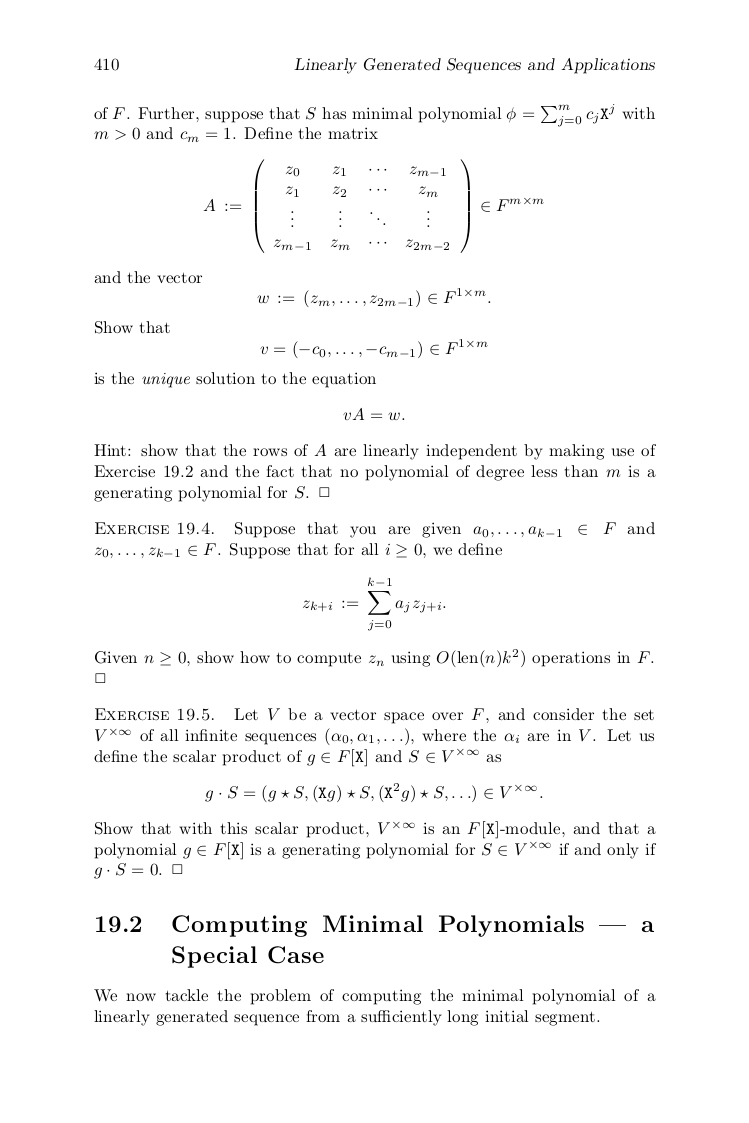formula: (203, 158, 543, 253), (302, 577, 445, 630), (205, 782, 542, 803), (257, 287, 490, 308), (260, 338, 487, 359), (343, 407, 404, 421)
